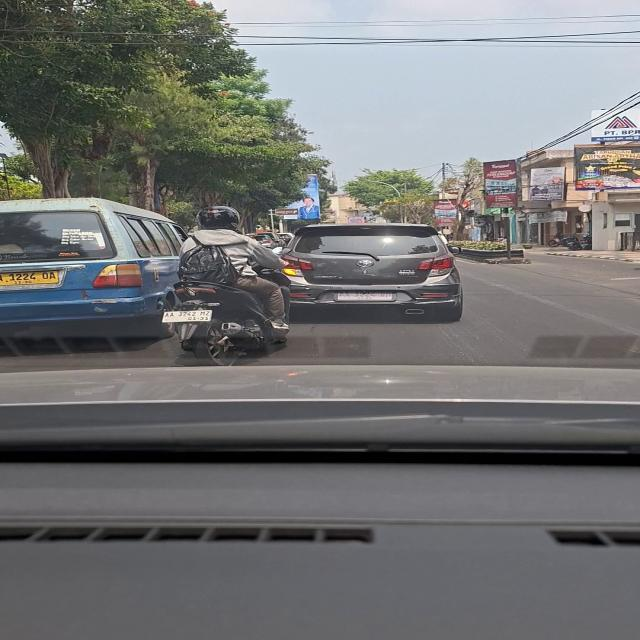WithHelmet: (178, 205, 292, 333)
